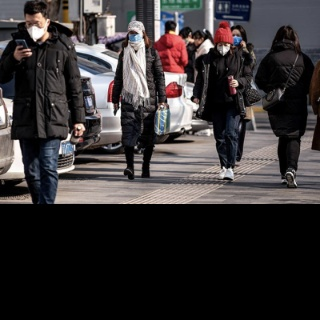with_mask: (25, 19, 47, 43), (217, 42, 230, 56), (232, 32, 243, 46), (128, 32, 143, 42)
